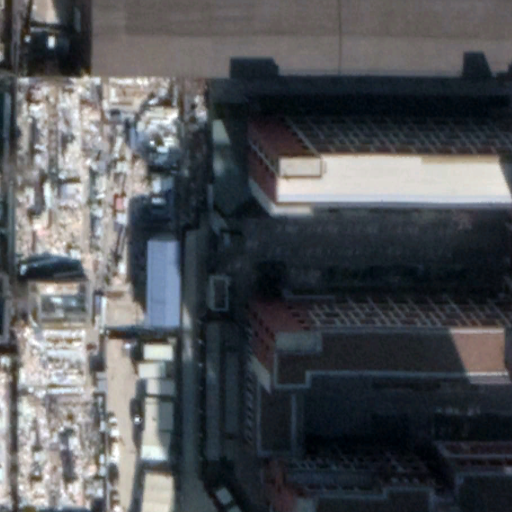msw: (17, 76, 186, 281), (17, 323, 108, 512)
